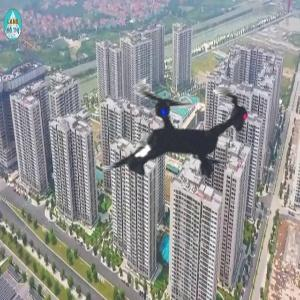drone: (66, 17, 295, 246)
